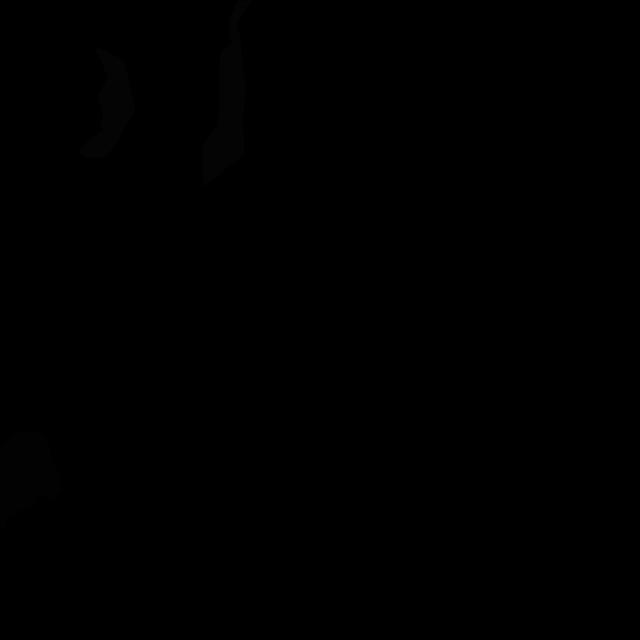cardboard: (0, 431, 63, 533)
soft_plastic: (202, 0, 252, 188), (78, 46, 136, 158)
